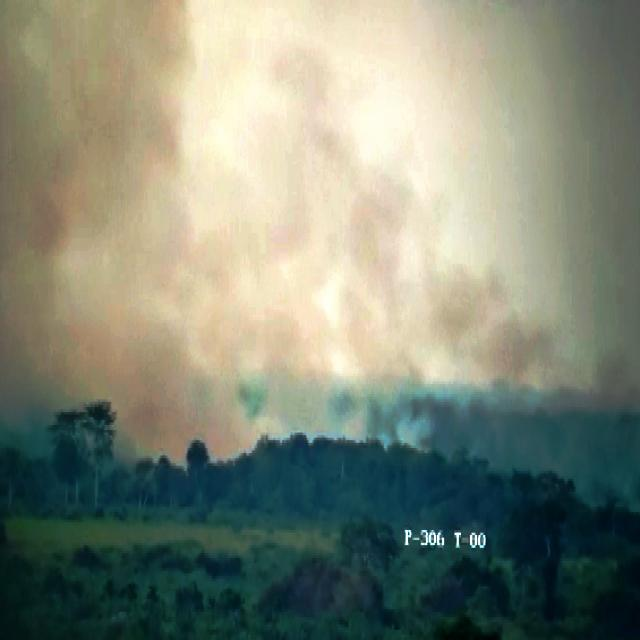asap: (1, 1, 442, 521), (200, 12, 443, 488), (1, 1, 199, 505), (431, 180, 640, 541)
